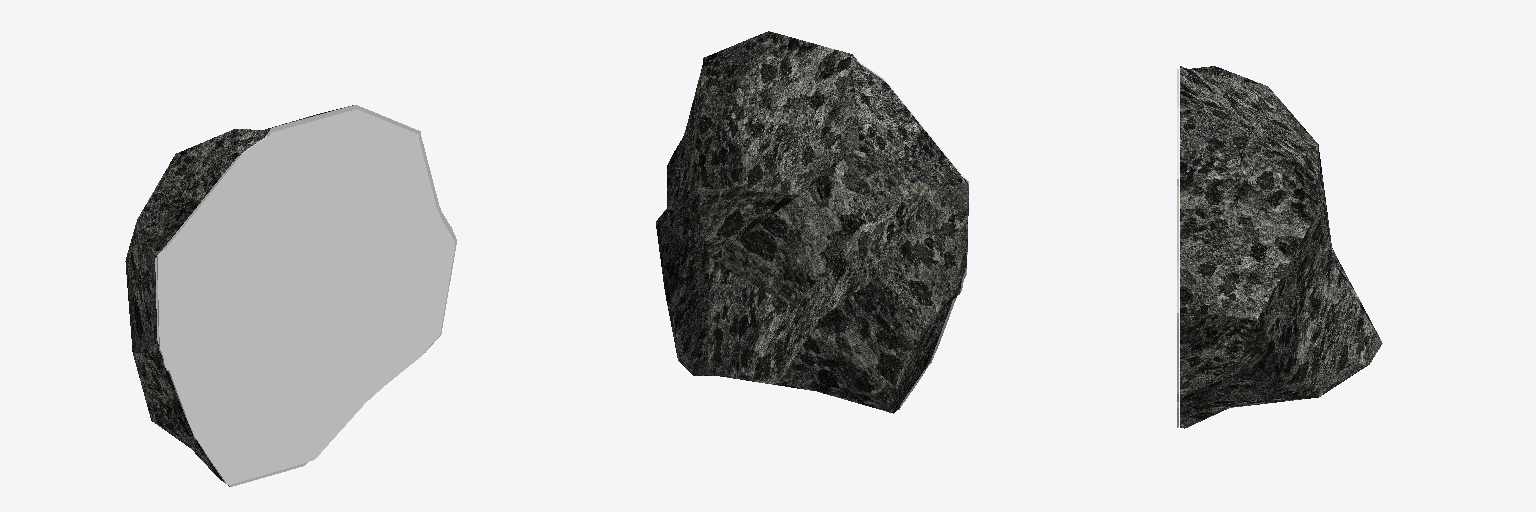
3 views of the same model, side by side, from view 1: azimuth 30°, elevation 25°; view 2: azimuth 150°, elevation 25°; view 3: azimuth 270°, elevation 25° (orthographic).
Visible parts, largest first — view 1: Object.1, Object.2; view 2: Object.2; view 3: Object.2, Object.1.
Part boxes in pixels (left/top/right/bottom): Object.1: left=157, top=109, right=454, bottom=484; Object.2: left=125, top=105, right=456, bottom=486; Object.2: left=656, top=31, right=968, bottom=413; Object.2: left=1180, top=66, right=1382, bottom=428; Object.1: left=1177, top=69, right=1178, bottom=427.
Size of the model in its own units: 56.7 by 63.19 by 33.44.
3 materials, 1 textured.